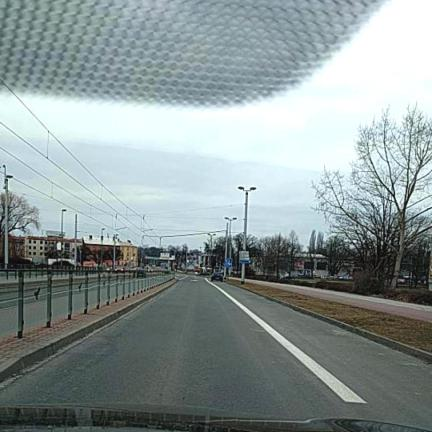Road: (0, 276, 431, 428)
